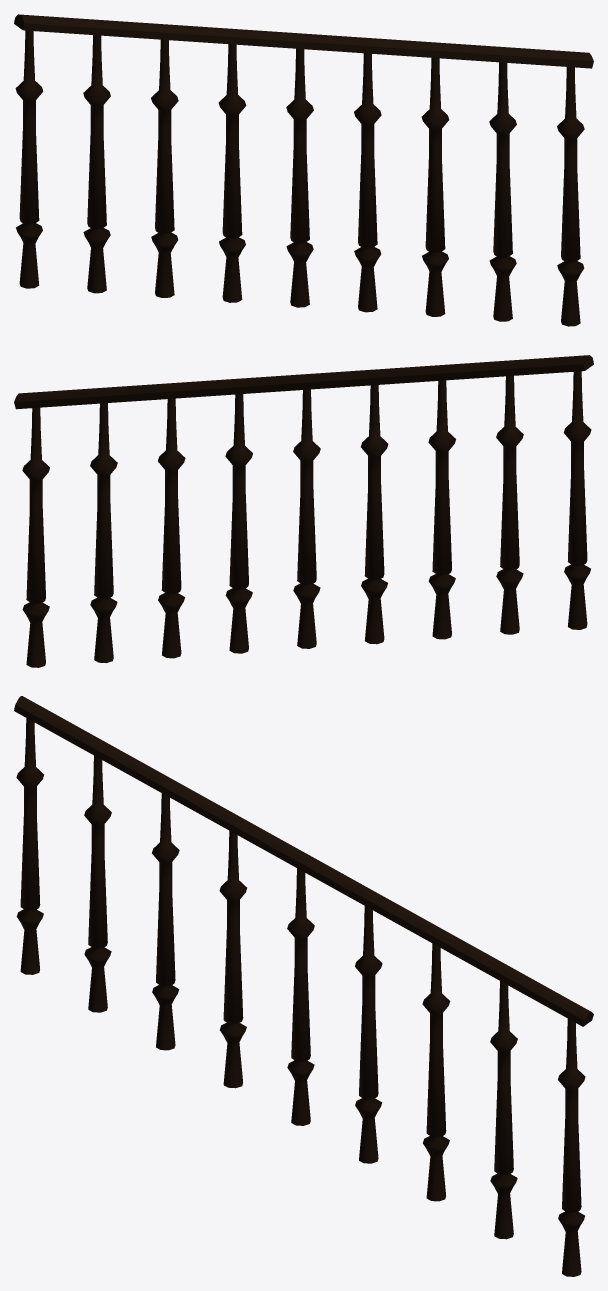
The model's file is Railing 2.FBX.
3 views of the same model, one above another, from view 1: azimuth 30°, elevation 25°; view 2: azimuth 150°, elevation 25°; view 3: azimuth 330°, elevation 25° (orthographic).
Visible parts, largest first — view 1: Railing 2; view 2: Railing 2; view 3: Railing 2.
Boxes of the visible parts, x1,y1,x2,y2 form: Railing 2: (14,14,593,326); Railing 2: (14,355,593,667); Railing 2: (14,696,593,1276).
Bounding box in the file's own units: 84.54 × 62.49 × 3.69.
